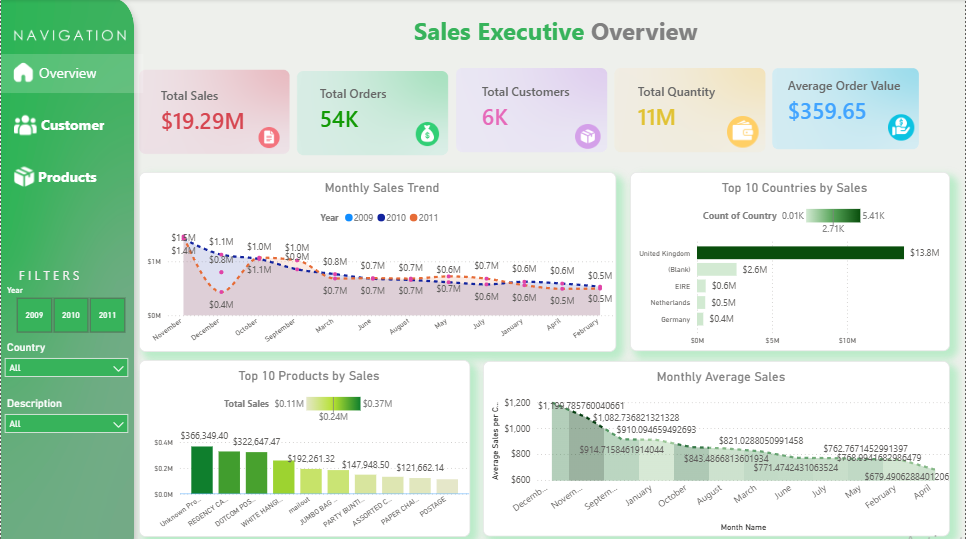

The dashboard page shown, as its layout file describes it:
{"tool":"powerbi","page":{"name":"Executive Overview","canvas":[1280,720],"ordinal":1},"visuals":[{"type":"textbox","box":[149.8,0,432,86.4],"z":0},{"type":"shape","box":[0,0,150.6,720.5],"z":1000},{"type":"cardVisual","fields":{"Data":["_Measures.Total Sales"]},"box":[168.3,101.7,165,110],"z":2000},{"type":"cardVisual","fields":{"Data":["_Measures.Total Profit"]},"box":[334.1,103.7,187.2,102.2],"z":3000},{"type":"lineClusteredColumnComboChart","title":"Monthly Sales and Profit Trend","fields":{"Y":["_Measures.Total Sales"],"Y2":["_Measures.Total Profit"],"Category":["DimDate.Year Month"]},"box":[168.3,206.7,1104.3,261.3],"z":4000},{"type":"cardVisual","fields":{"Data":["_Measures.Profit Margin %"]},"box":[521.7,105,180,101.7],"z":5000},{"type":"cardVisual","fields":{"Data":["_Measures.Total Orders"]},"box":[715,105,161.7,101.7],"z":6000},{"type":"cardVisual","fields":{"Data":["_Measures.Total Customers"]},"box":[876.7,101.7,185,101.7],"z":7000},{"type":"cardVisual","fields":{"Data":["_Measures.Average Order Value"]},"box":[1061.7,101.7,218.3,101.7],"z":8000},{"type":"barChart","title":"Sales by Region","fields":{"Category":["DimLocation.Region"],"Y":["_Measures.Total Sales"]},"box":[168.3,468,258.4,234.7],"z":9000},{"type":"clusteredColumnChart","title":"Profit by Category","fields":{"Category":["DimProduct.Category"],"Y":["_Measures.Total Profit"]},"box":[426.2,468,231.8,234.7],"z":10000},{"type":"slicer","fields":{"Values":["DimDate.Year"]},"box":[989.3,2.9,279.4,53.3],"z":11000},{"type":"donutChart","title":"Sales Contribution by Customer Segment","fields":{"Category":["DimCustomer.Segment"],"Y":["_Measures.Total Sales"]},"box":[658.1,468,311,234.7],"z":12000},{"type":"textbox","box":[0,468,160.9,35.4],"z":13000},{"type":"slicer","fields":{"Values":["DimLocation.Region"]},"box":[10.3,493.1,134.3,65],"z":14000},{"type":"slicer","fields":{"Values":["DimProduct.Category"]},"box":[8.9,558.1,134.3,62],"z":15000},{"type":"slicer","fields":{"Values":["DimShipMode.Ship Mode"]},"box":[8.9,620.1,134.3,59.1],"z":16000},{"type":"cardVisual","fields":{"Data":["_Measures.Average Delivery Days"]},"box":[738.7,5.8,230.4,86.4],"z":17000},{"type":"actionButton","title":"Home","box":[10.3,212.6,129.9,39.9],"z":18000},{"type":"actionButton","box":[8.9,417.8,134.3,39.9],"z":19000},{"type":"image","box":[26.6,0,73.8,87.1],"z":20000},{"type":"actionButton","title":"Home","box":[8.9,172.7,129.9,39.9],"z":21000},{"type":"actionButton","title":"Home","box":[8.9,131.4,129.9,39.9],"z":22000},{"type":"actionButton","title":"Home","box":[10.3,258.4,129.9,39.9],"z":23000},{"type":"actionButton","title":"Home","box":[8.9,298.2,129.9,39.9],"z":24000},{"type":"actionButton","title":"Home","box":[8.9,338.1,129.9,39.9],"z":25000},{"type":"shape","box":[0,90.1,150.6,44.3],"z":26000},{"type":"actionButton","title":"Home","box":[8.9,377.9,129.9,39.9],"z":27000},{"type":"actionButton","title":"Home","box":[14.8,91.5,129.9,39.9],"z":28000},{"type":"slicer","fields":{"Values":["DimCustomer.Segment"]},"box":[969.1,56.2,311,46.1],"z":29000},{"type":"pivotTable","fields":{"Values":["_Measures.Business Insight Narrative"]},"box":[969.1,457.9,305.3,244.8],"z":30000}]}

Visuals, with their boxes in screenshot pixels (x1, y1, x2, y2), scaled from the page's 1280x720 canvas onto the 966x539 screenshot:
textbox: 113,0,439,65
shape: 0,0,114,538
cardVisual - _Measures.Total Sales: 127,76,252,158
cardVisual - _Measures.Total Profit: 252,78,393,154
"Monthly Sales and Profit Trend" lineClusteredColumnComboChart: 127,155,960,350
cardVisual - _Measures.Profit Margin %: 394,79,530,155
cardVisual - _Measures.Total Orders: 540,79,662,155
cardVisual - _Measures.Total Customers: 662,76,801,152
cardVisual - _Measures.Average Order Value: 801,76,965,152
"Sales by Region" barChart: 127,350,322,526
"Profit by Category" clusteredColumnChart: 322,350,497,526
slicer - DimDate.Year: 747,2,957,42
"Sales Contribution by Customer Segment" donutChart: 497,350,731,526
textbox: 0,350,121,377
slicer - DimLocation.Region: 8,369,109,418
slicer - DimProduct.Category: 7,418,108,464
slicer - DimShipMode.Ship Mode: 7,464,108,508
cardVisual - _Measures.Average Delivery Days: 557,4,731,69
"Home" actionButton: 8,159,106,189
actionButton: 7,313,108,343
image: 20,0,76,65
"Home" actionButton: 7,129,105,159
"Home" actionButton: 7,98,105,128
"Home" actionButton: 8,193,106,223
"Home" actionButton: 7,223,105,253
"Home" actionButton: 7,253,105,283
shape: 0,67,114,101
"Home" actionButton: 7,283,105,313
"Home" actionButton: 11,68,109,98
slicer - DimCustomer.Segment: 731,42,965,77
pivotTable - _Measures.Business Insight Narrative: 731,343,962,526
